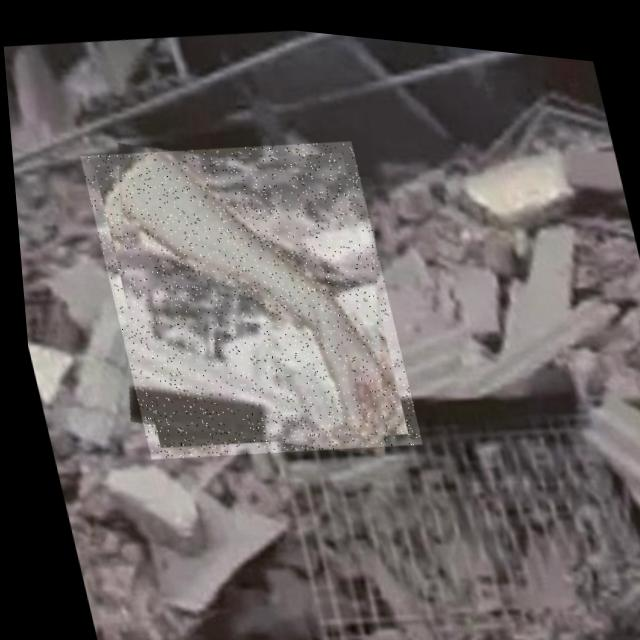Person in Rubble: (75, 111, 419, 479)
